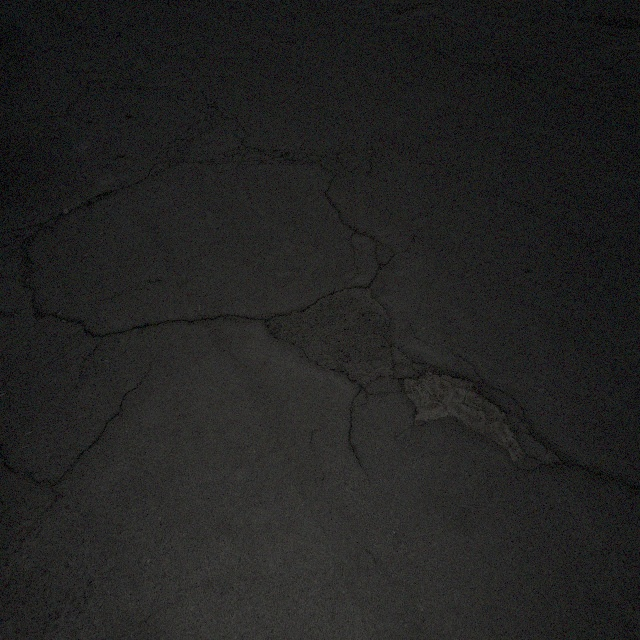pothole: (394, 364, 528, 472), (398, 2, 448, 20)
